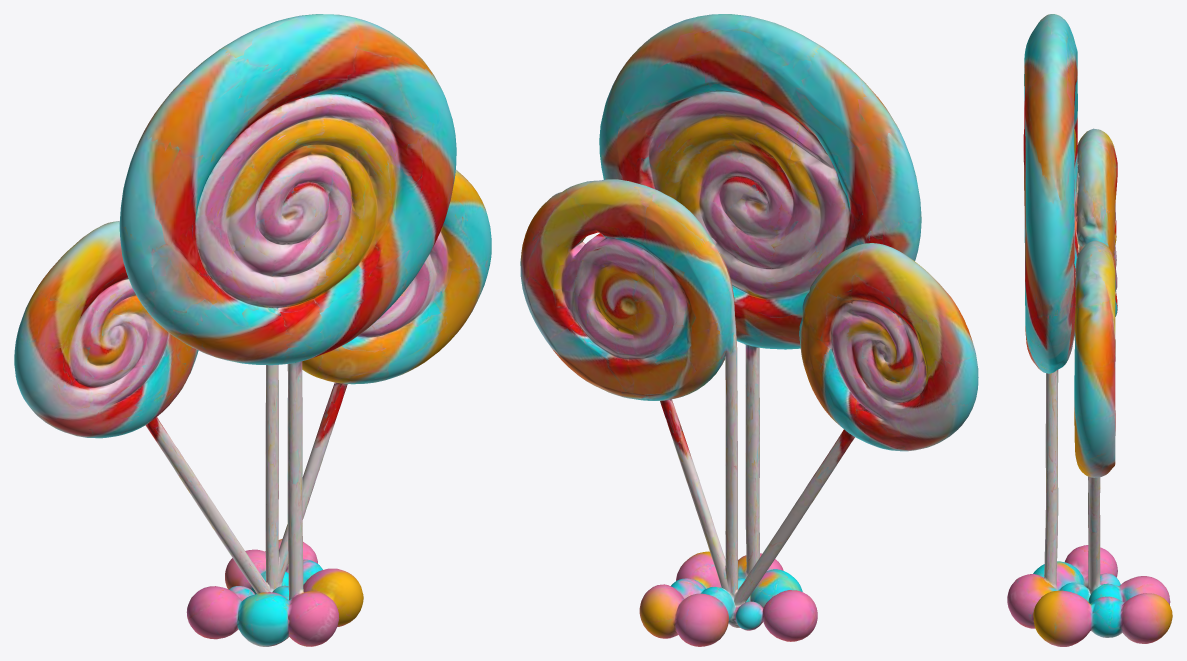
3 renders of one model, left to right at view 1: azimuth 30°, elevation 25°; view 2: azimuth 150°, elevation 25°; view 3: azimuth 270°, elevation 25°, orthographic. The views are drawn at different scales.
Size of the model in its own units: 1.51 by 1.9 by 0.4827.
Materials: 1 (1 with a texture image).
